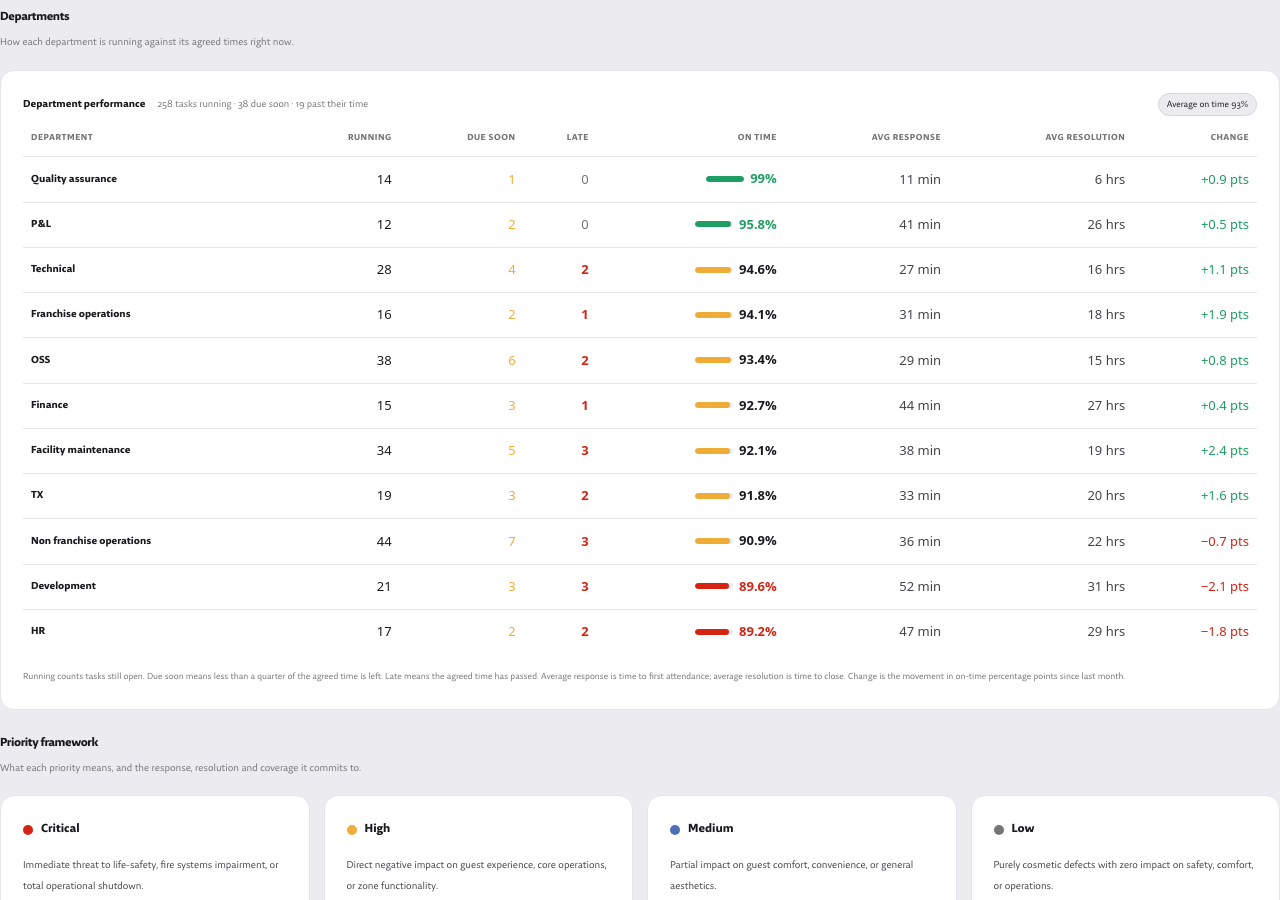
Test: SlaPage › opens department and item drill-ins with the inert preview and bounded time-used progress
(page scrolled)
Click the text "Facility maintenance" at (640, 451), box [23,428,1257,474]
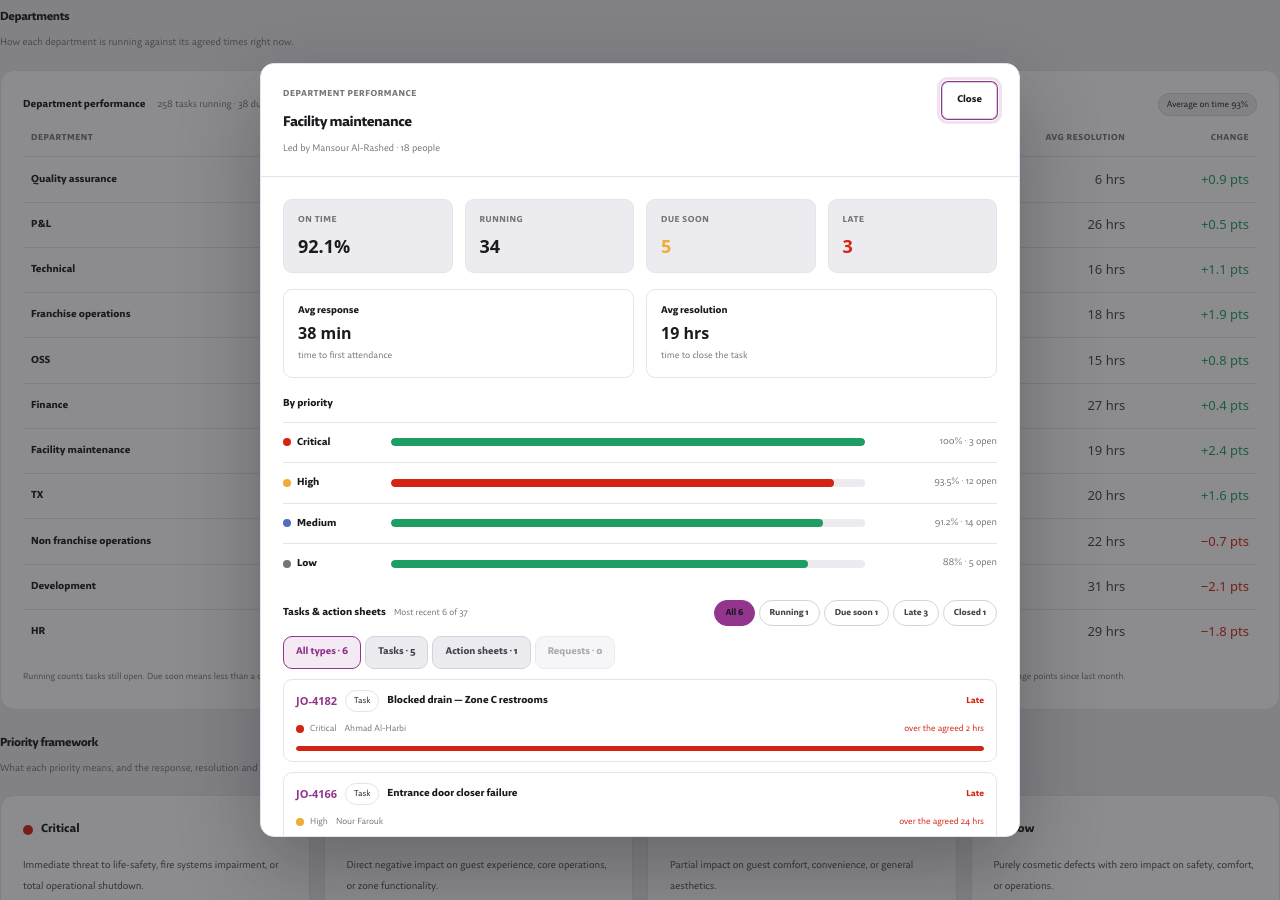
Click the text "Blocked drain — Zone C restrooms" at (468, 701), box [387,694,548,707]
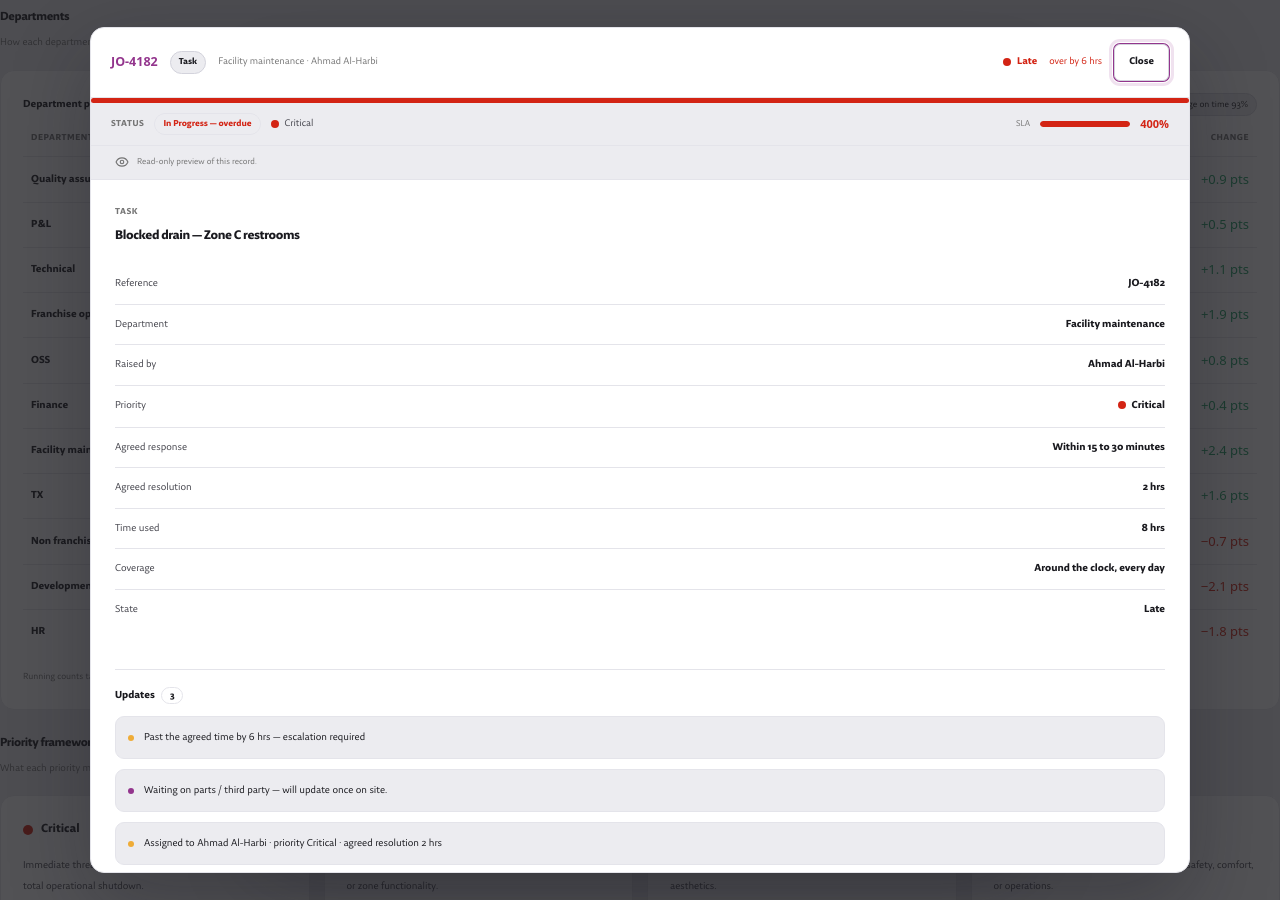
Now the text "400%" is shown, box [1140,116,1169,132]
Now the text "Read-only preview of this record." is shown, box [91,146,1189,180]
Press Escape
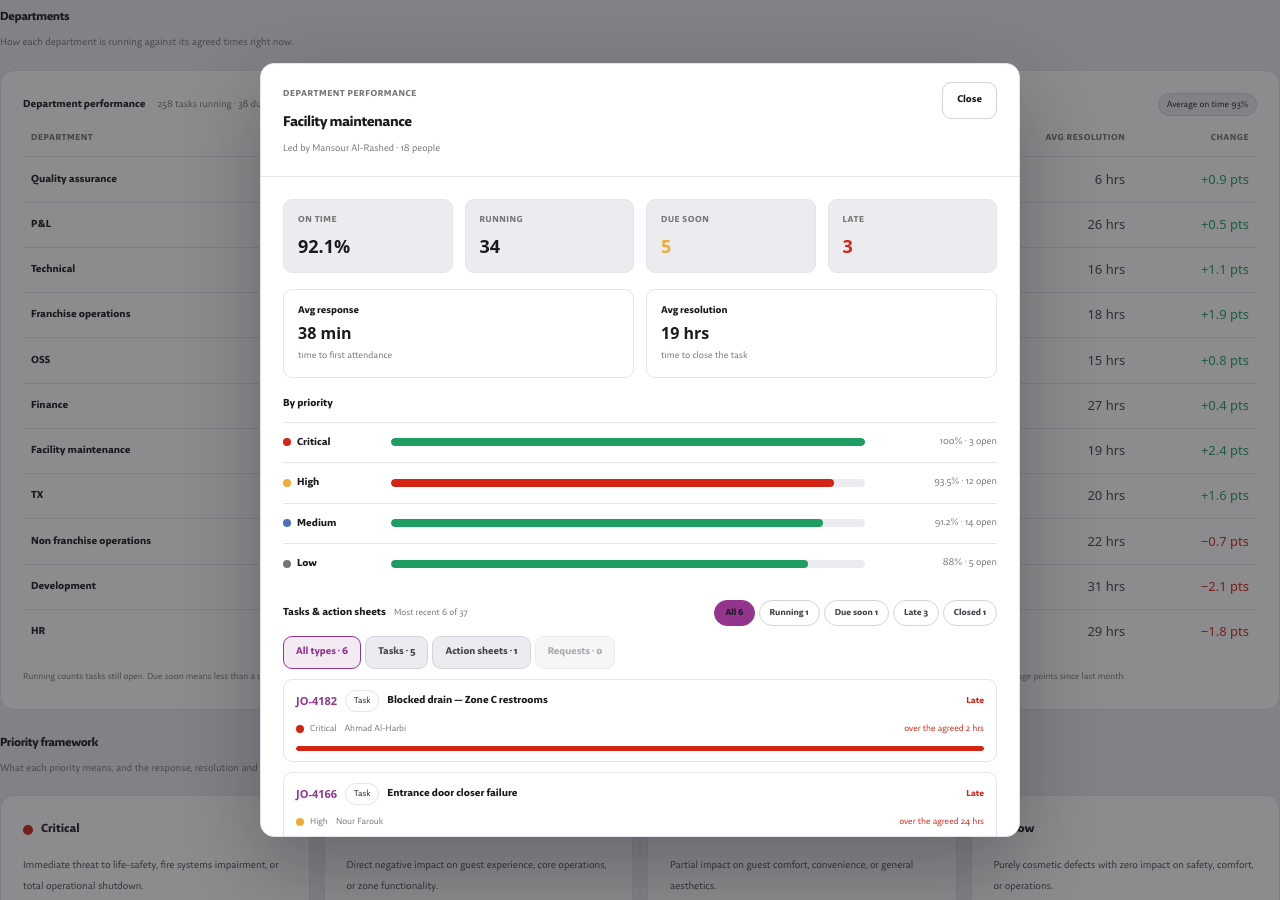
Now the dialog with test id "sla-item-dialog" is gone
